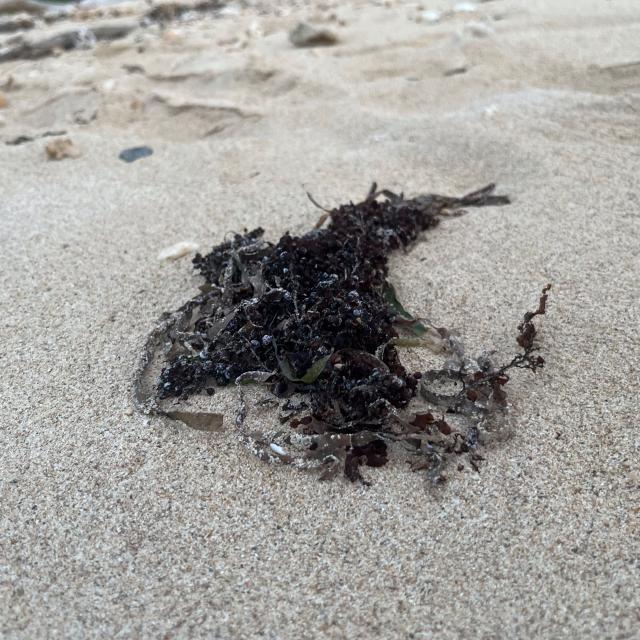seaweed: (120, 180, 564, 506)
